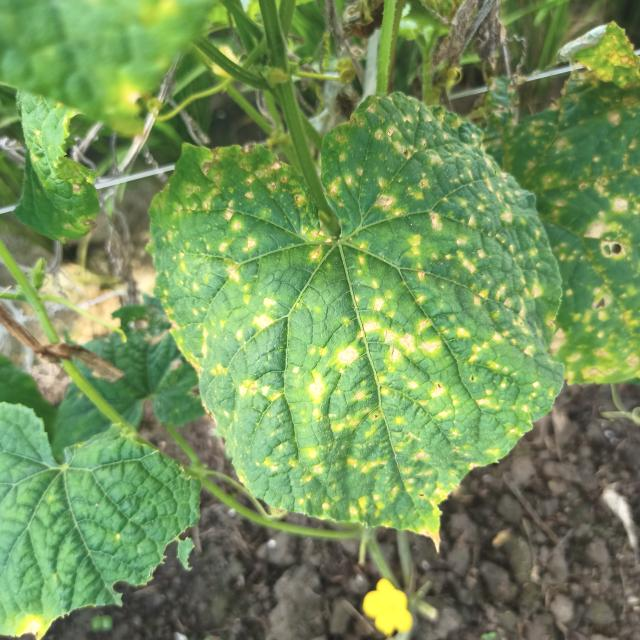disease_cucumber: (161, 92, 558, 538), (480, 60, 640, 389)
